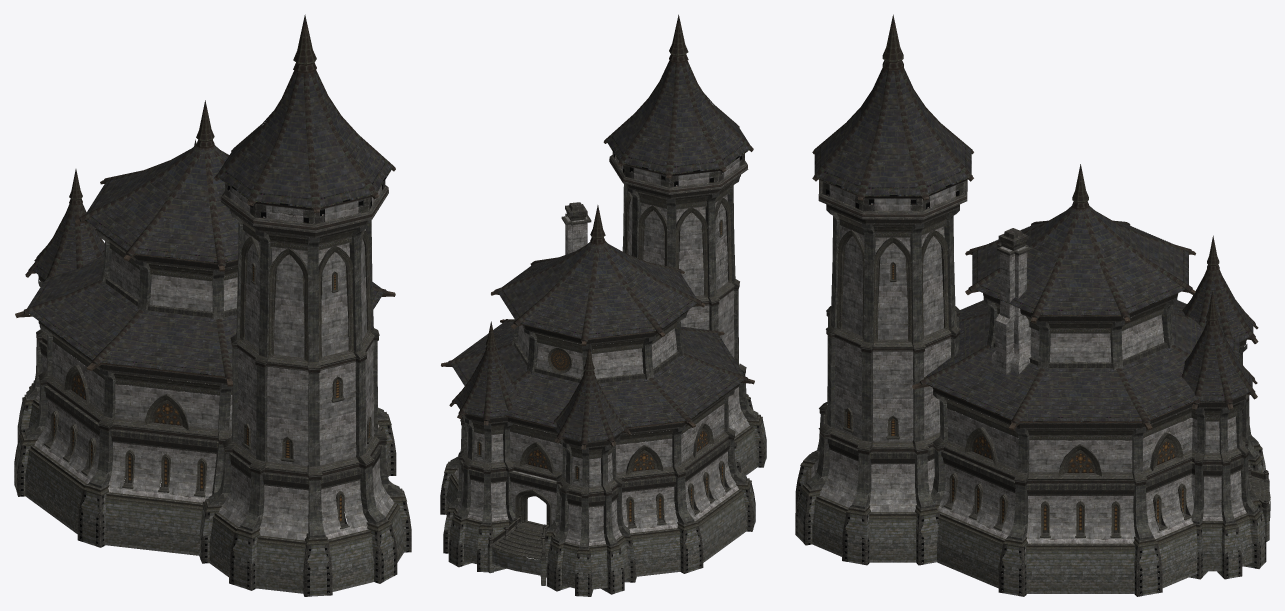
The model's file is eso_gu2_LargeHouseRound2-transformed.glb.
3 renders of one model, left to right at view 1: azimuth 30°, elevation 25°; view 2: azimuth 150°, elevation 25°; view 3: azimuth 270°, elevation 25°, orthographic. The views are drawn at different scales.
Parts seen in each view (by area): view 1: default; view 2: default; view 3: default.
Boxes of the visible parts, left/top/right/bottom form: default: left=14, top=14, right=411, bottom=596; default: left=440, top=14, right=766, bottom=596; default: left=795, top=14, right=1270, bottom=596.
Size of the model in its own units: 50.33 by 82.98 by 69.33.
Materials: 9 (9 with a texture image).
